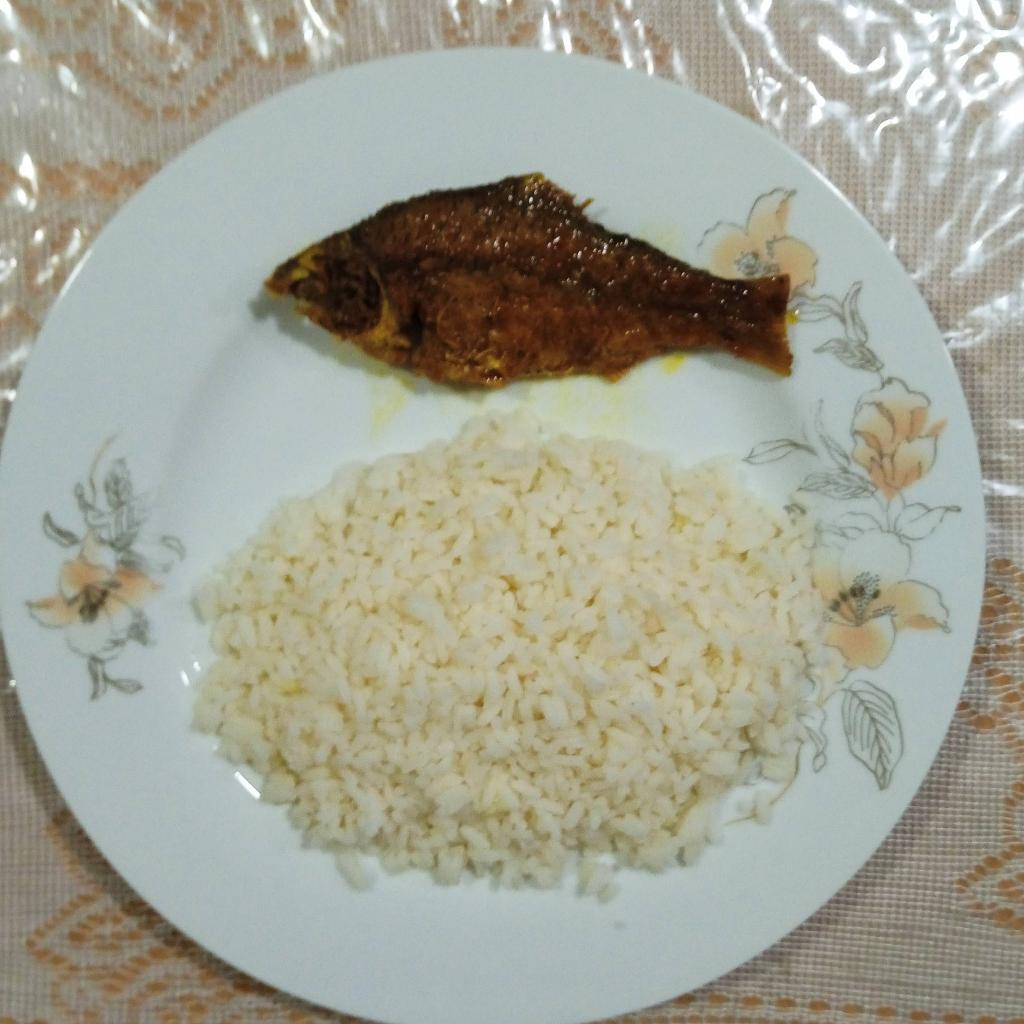fish: (263, 165, 800, 388)
rice: (194, 422, 842, 892)
